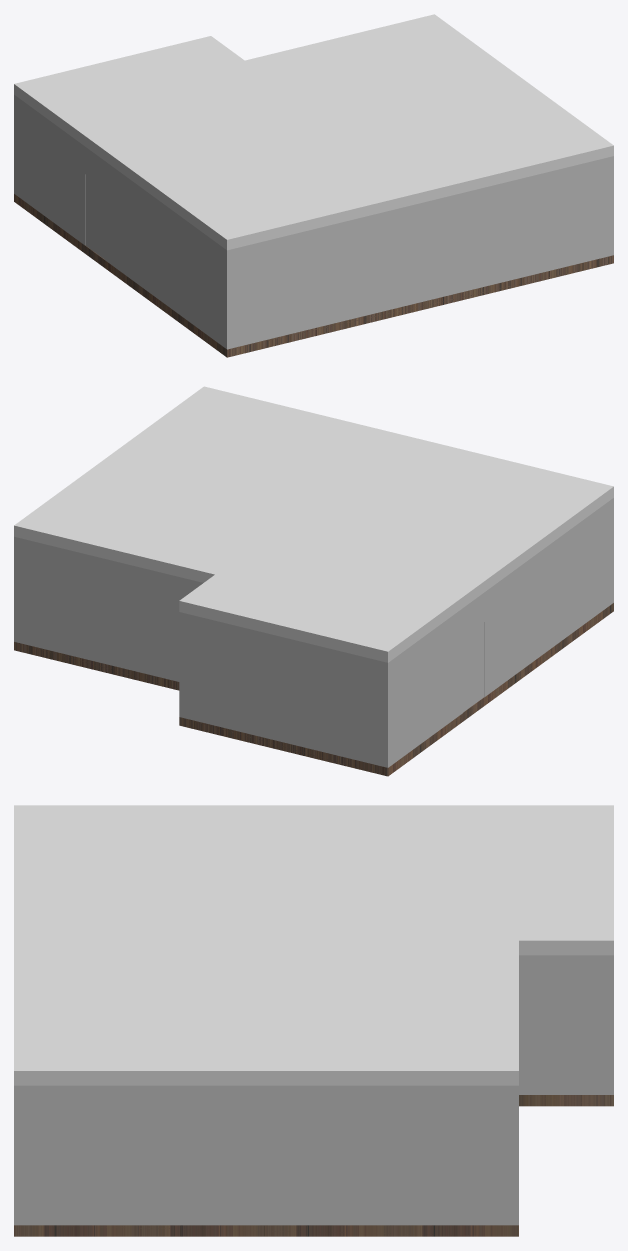
The model's file is gallery 01.fbx.
The picture shows the model from 3 angles, top to bottom: view 1: azimuth 30°, elevation 25°; view 2: azimuth 150°, elevation 25°; view 3: azimuth 270°, elevation 25°; orthographic projection. The views are drawn at different scales.
Parts seen in each view (by area): view 1: Extrude_1, Cube_3_2, Cube_1_door, Floor, Cube_6_2; view 2: Extrude_1, Cube_1_door, Cube_4_2, Cube_5_2, Floor, Cube_6_2; view 3: Extrude_1, Cube_1_2, Cube_3_3, Floor.
Boxes of the visible parts, <box> form: Extrude_1: <box>14,14,613,250</box>; Cube_3_2: <box>227,156,613,349</box>; Cube_1_door: <box>14,94,226,348</box>; Floor: <box>14,194,613,357</box>; Cube_6_2: <box>85,174,104,258</box>; Extrude_1: <box>14,386,613,662</box>; Cube_1_door: <box>388,498,613,767</box>; Cube_4_2: <box>179,612,387,767</box>; Cube_5_2: <box>14,536,202,681</box>; Floor: <box>14,603,613,776</box>; Cube_6_2: <box>463,622,483,711</box>; Extrude_1: <box>14,805,613,1085</box>; Cube_1_2: <box>14,1085,518,1225</box>; Cube_3_3: <box>519,955,613,1094</box>; Floor: <box>14,1095,613,1236</box>.
Bounding box in the file's own units: 996 × 290 × 951.
4 materials, 1 textured.
